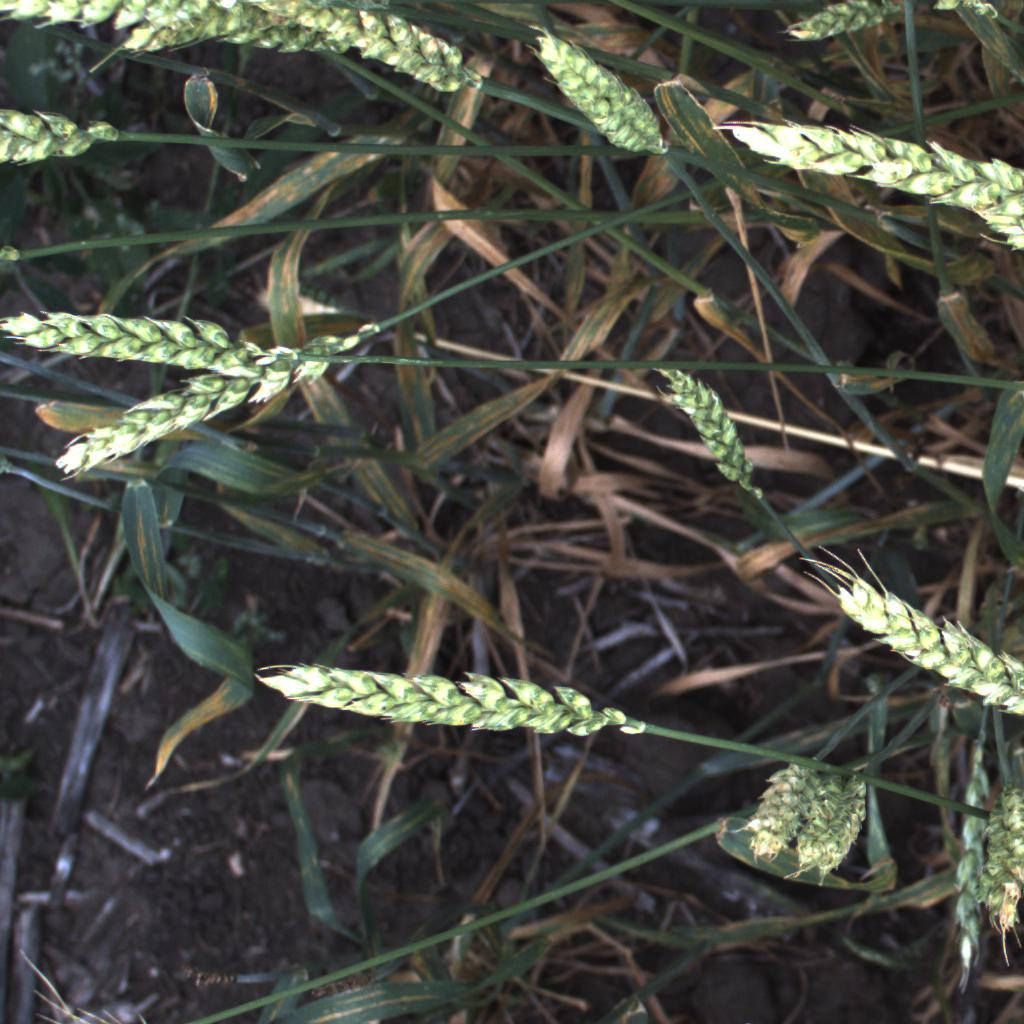0-0: (47, 325, 375, 489), (239, 640, 628, 756), (710, 92, 1024, 227), (828, 562, 1024, 732), (202, 0, 507, 101), (0, 284, 289, 389), (234, 0, 491, 111), (518, 17, 674, 161), (636, 357, 778, 500), (121, 0, 359, 70), (725, 751, 831, 866), (948, 747, 996, 997), (0, 99, 139, 181), (808, 772, 893, 895), (785, 758, 863, 883), (762, 0, 920, 54), (974, 772, 1024, 935), (0, 0, 218, 29)
